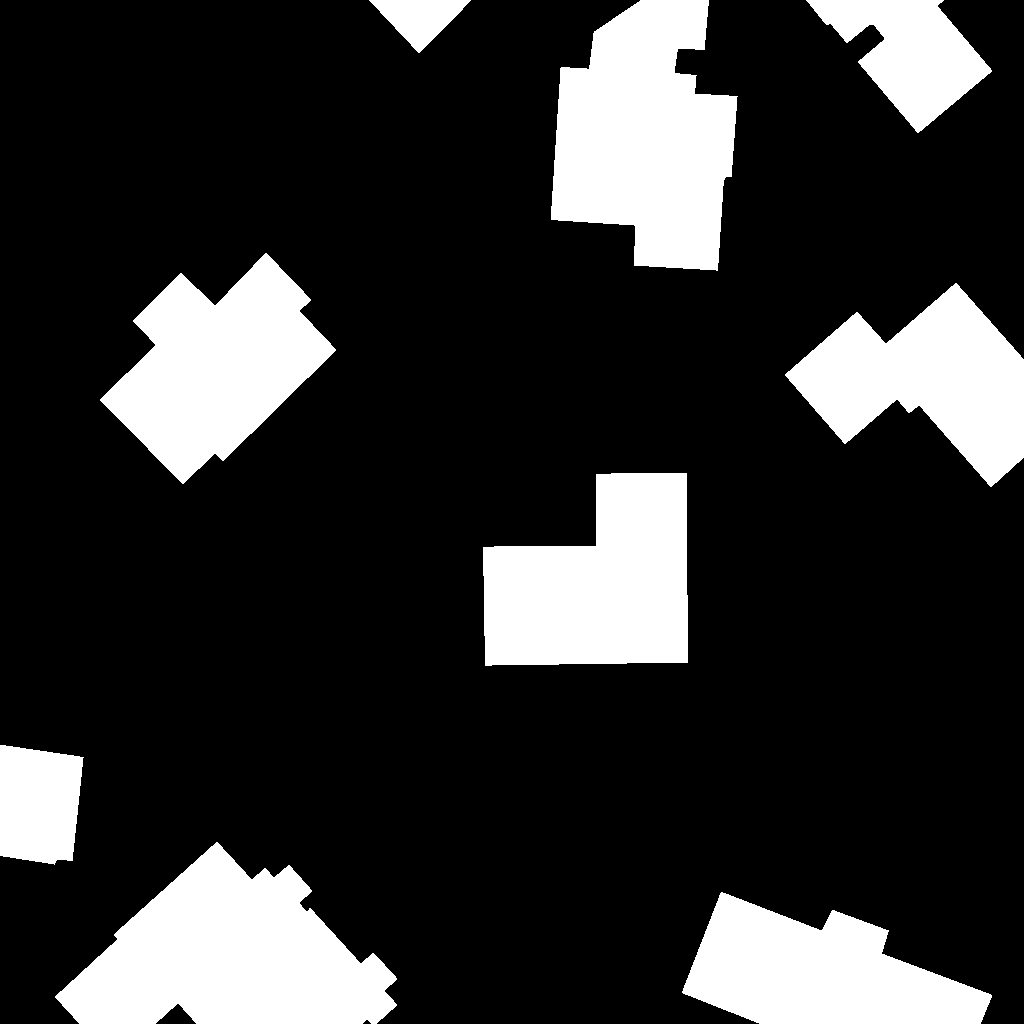building: (55, 842, 398, 1024), (100, 253, 337, 485), (551, 0, 738, 271), (785, 283, 1024, 488), (682, 892, 993, 1024), (483, 473, 689, 666), (806, 0, 993, 134), (0, 745, 84, 865), (369, 0, 473, 54)
